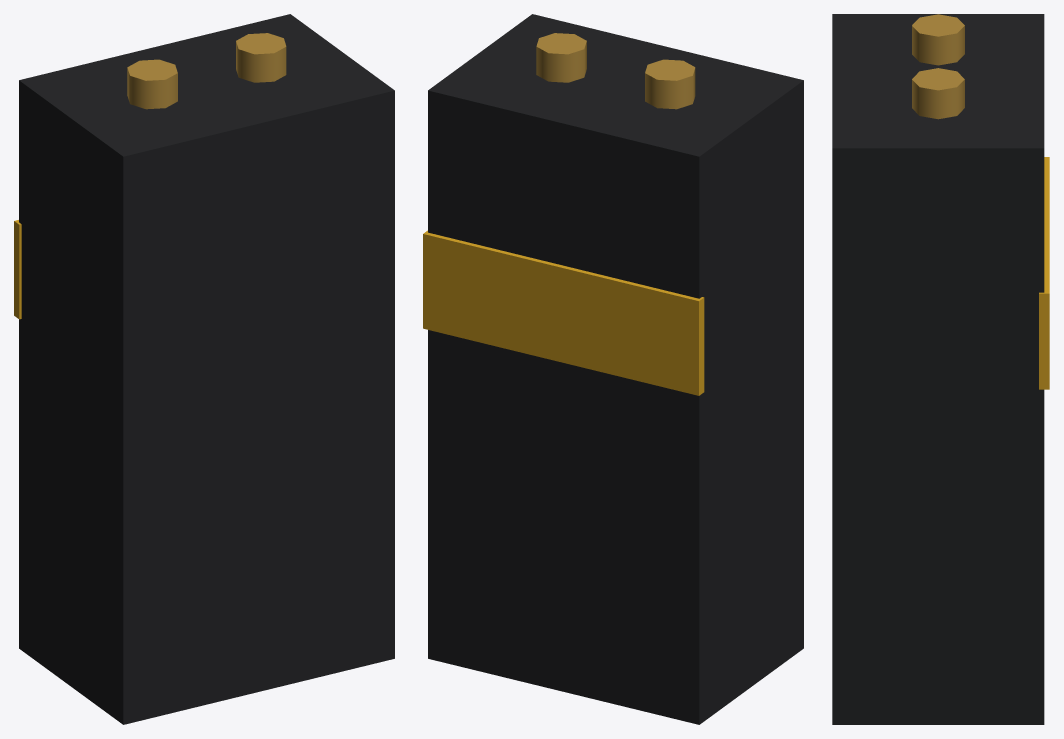
Rendered from lamp-battery.glb.
3 views of the same model, side by side, from view 1: azimuth 30°, elevation 25°; view 2: azimuth 150°, elevation 25°; view 3: azimuth 270°, elevation 25° (orthographic).
Parts seen in each view (by area): view 1: lamp-battery; view 2: lamp-battery; view 3: lamp-battery.
Part boxes in pixels (bbox=[...]): lamp-battery: bbox=[14, 14, 394, 724]; lamp-battery: bbox=[423, 14, 803, 724]; lamp-battery: bbox=[832, 14, 1049, 724].
Bounding box in the file's own units: 0.061 × 0.126 × 0.041.
1 material, 1 textured.
